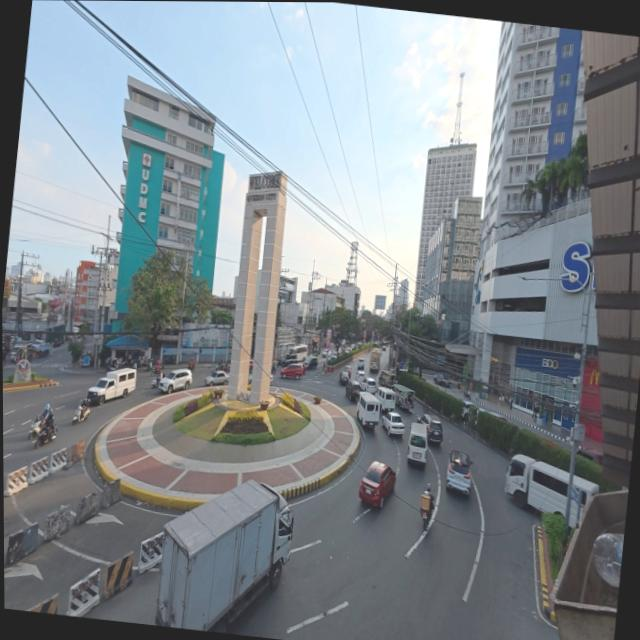car: (357, 457, 399, 509), (445, 448, 479, 496), (160, 363, 197, 393), (379, 410, 407, 439), (278, 361, 304, 381), (203, 367, 229, 387)
